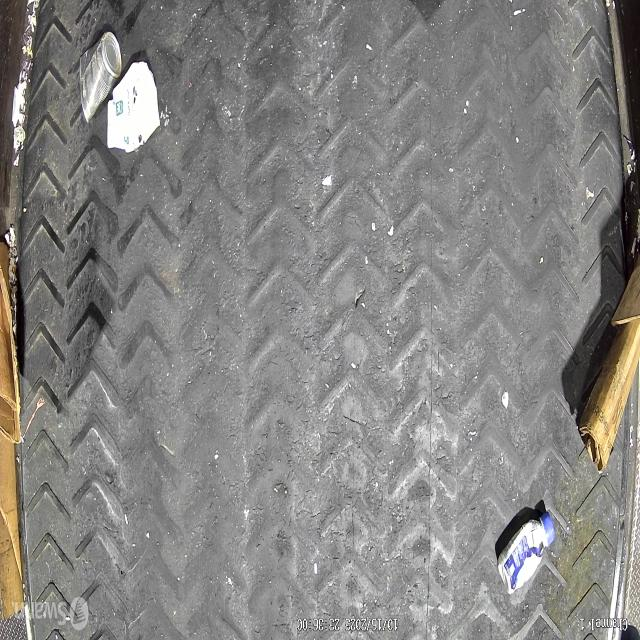can: (78, 30, 122, 124)
